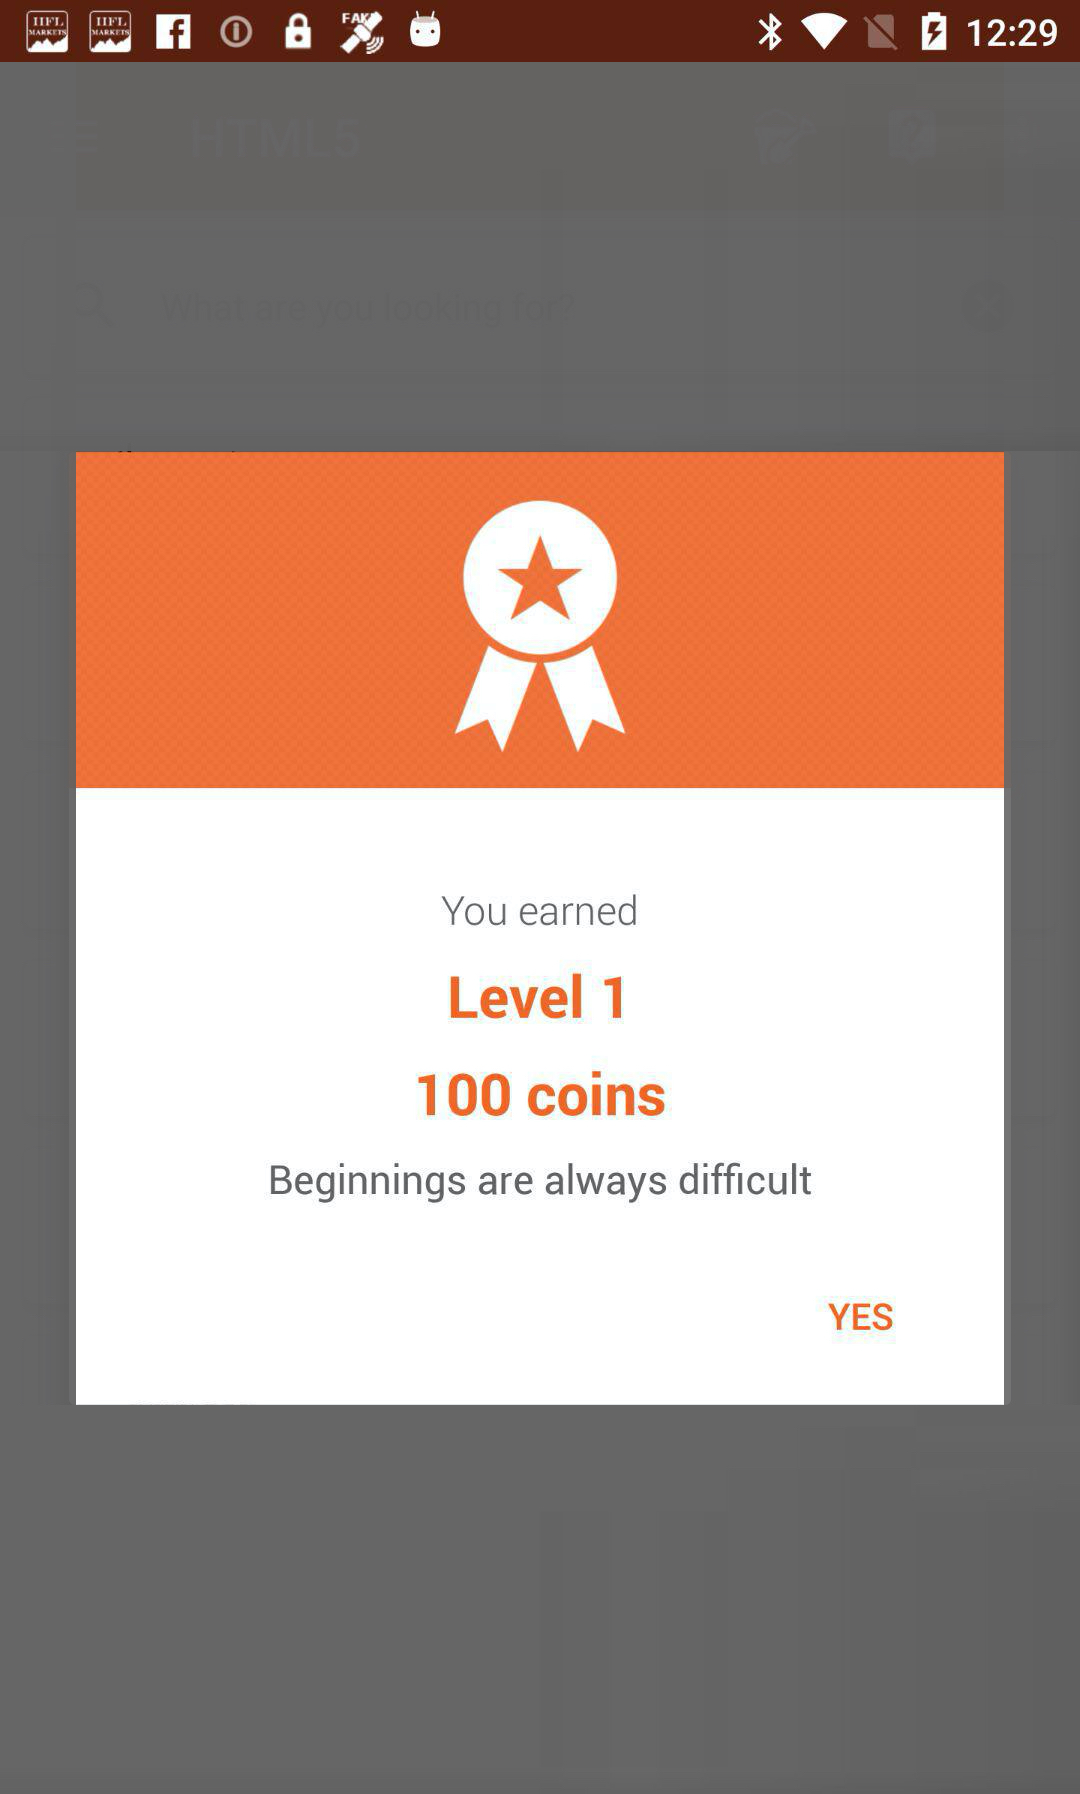Image: (70, 454, 1011, 788)
Modal: (70, 454, 1011, 1406)
Text: (272, 1164, 812, 1205), (418, 1071, 665, 1117), (451, 973, 623, 1019), (442, 894, 635, 926), (828, 1303, 893, 1331)
UpperTaskBar: (1, 1, 1080, 64)
